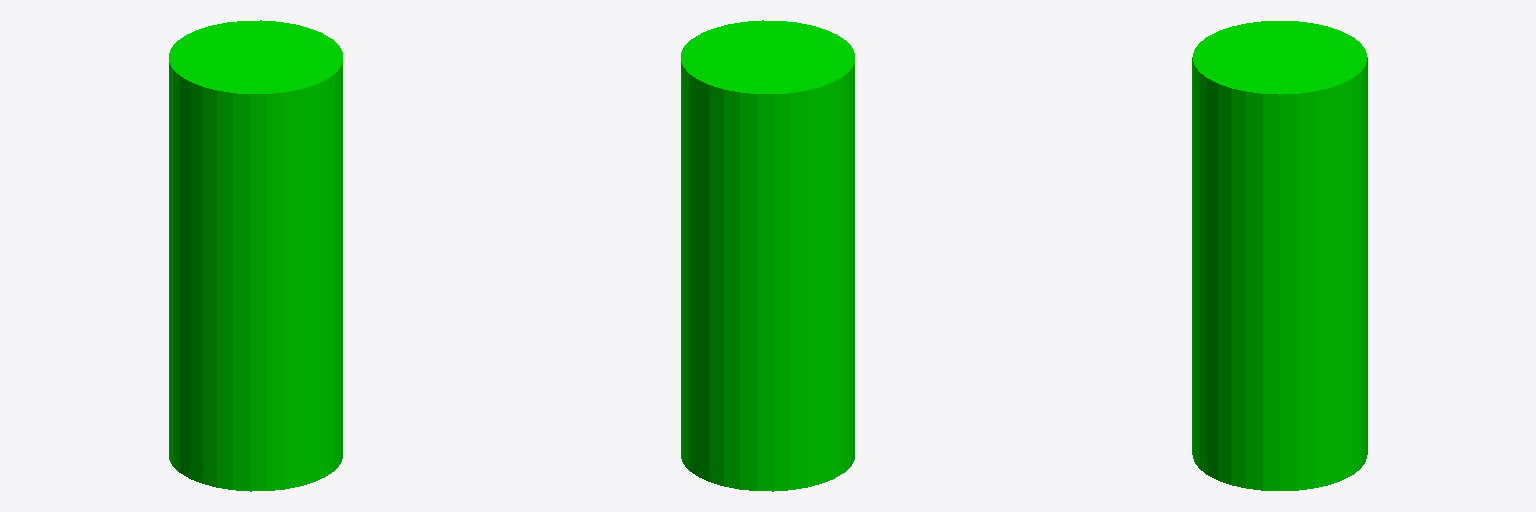
URDF robot description (goal):
<?xml version="1.0"?> 
<robot name="goal">
    <!-- Colors --> 
    <material name="green">
        <color rgba="0 0.925 0 0.5"/>
    </material>

    <!-- Goal -->
    <link name="base_link">
        <visual>
            <geometry>
                <cylinder radius="1" length="5"/>
                <origin rpy="0 0 0" xyz="0 0 0"/>
            </geometry>
            <material name="green"/>
        </visual>

        <inertial> 
            <mass value="0"/>
            <inertia ixx="0" ixy="0" ixz="0" iyy="0" iyz="0" izz="0"/>
        </inertial> 
    </link>
</robot>

--- Facts derived from the render (not from the file) ---
The picture shows the robot from 3 angles, left to right: view 1: azimuth 30°, elevation 25°; view 2: azimuth 150°, elevation 25°; view 3: azimuth 270°, elevation 25°; orthographic projection.
Robot: goal — 1 links, 0 joints (none); root link base_link; default pose: every joint at zero.
Visible links, largest first — view 1: base_link; view 2: base_link; view 3: base_link.
Boxes of the visible links, left/top/right/bottom form: base_link: left=169, top=20, right=342, bottom=491; base_link: left=681, top=20, right=854, bottom=491; base_link: left=1192, top=21, right=1367, bottom=490.
Size in the robot's own frame: 2 by 2 by 5 metres.
Geometry: primitives only (box / cylinder / sphere), no mesh files.